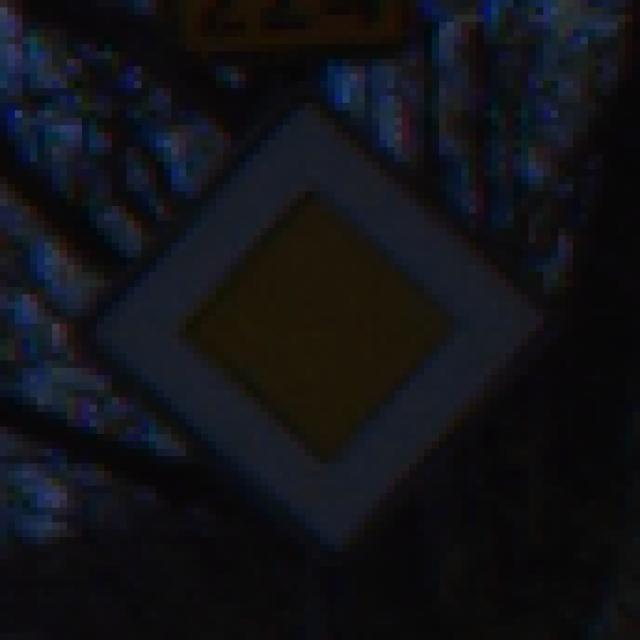Main Road: (53, 60, 589, 589)
